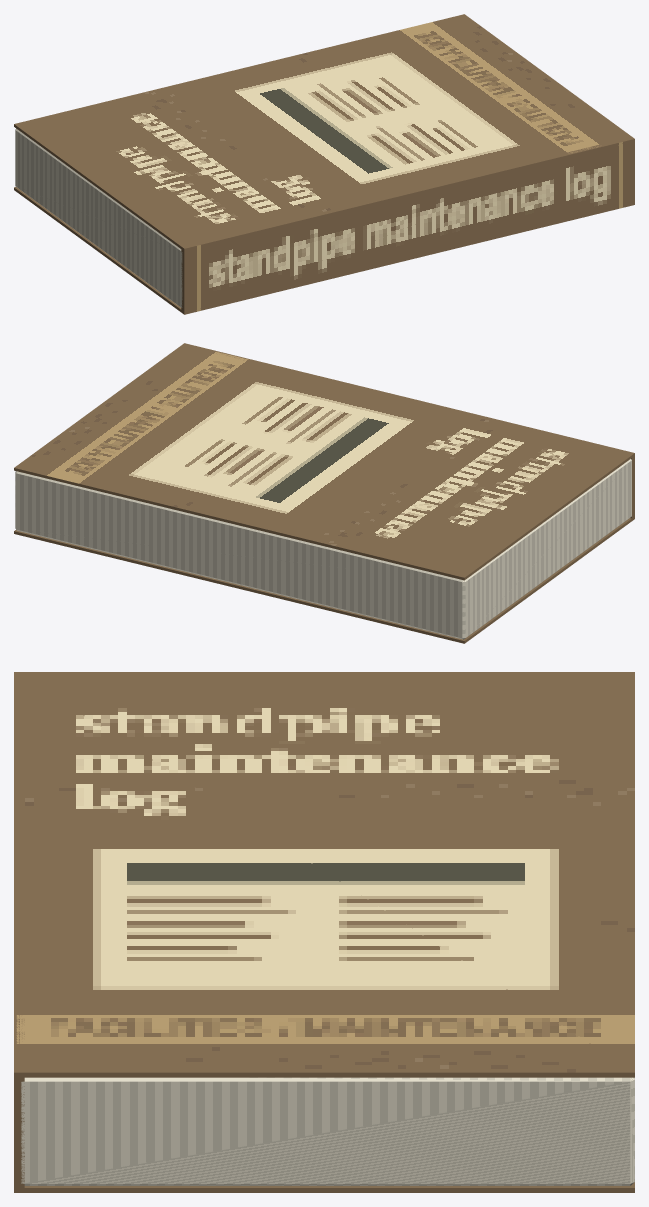
Rendered from decoy_elfa.glb.
3 renders of one model, top to bottom at view 1: azimuth 30°, elevation 25°; view 2: azimuth 150°, elevation 25°; view 3: azimuth 270°, elevation 25°, orthographic. The views are drawn at different scales.
Visible parts, largest first — view 1: block_front, block_spine, block_pages, block_back; view 2: block_front, block_pages, block_back, block_spine; view 3: block_front, block_pages, block_spine, block_back.
Part boxes in pixels (x1,y1,x2,y2): block_front: (14, 14, 631, 250); block_spine: (181, 137, 634, 314); block_pages: (15, 128, 182, 307); block_back: (14, 187, 183, 313); block_front: (14, 344, 634, 580); block_pages: (15, 459, 631, 639); block_back: (14, 517, 634, 643); block_spine: (183, 343, 634, 519); block_front: (16, 672, 634, 1077); block_pages: (21, 1077, 634, 1185); block_spine: (14, 672, 24, 1192); block_back: (16, 1182, 634, 1192).
Bounding box in the file's own units: 0.2244 × 0.0314 × 0.147.
Materials: 1 (1 with a texture image).
